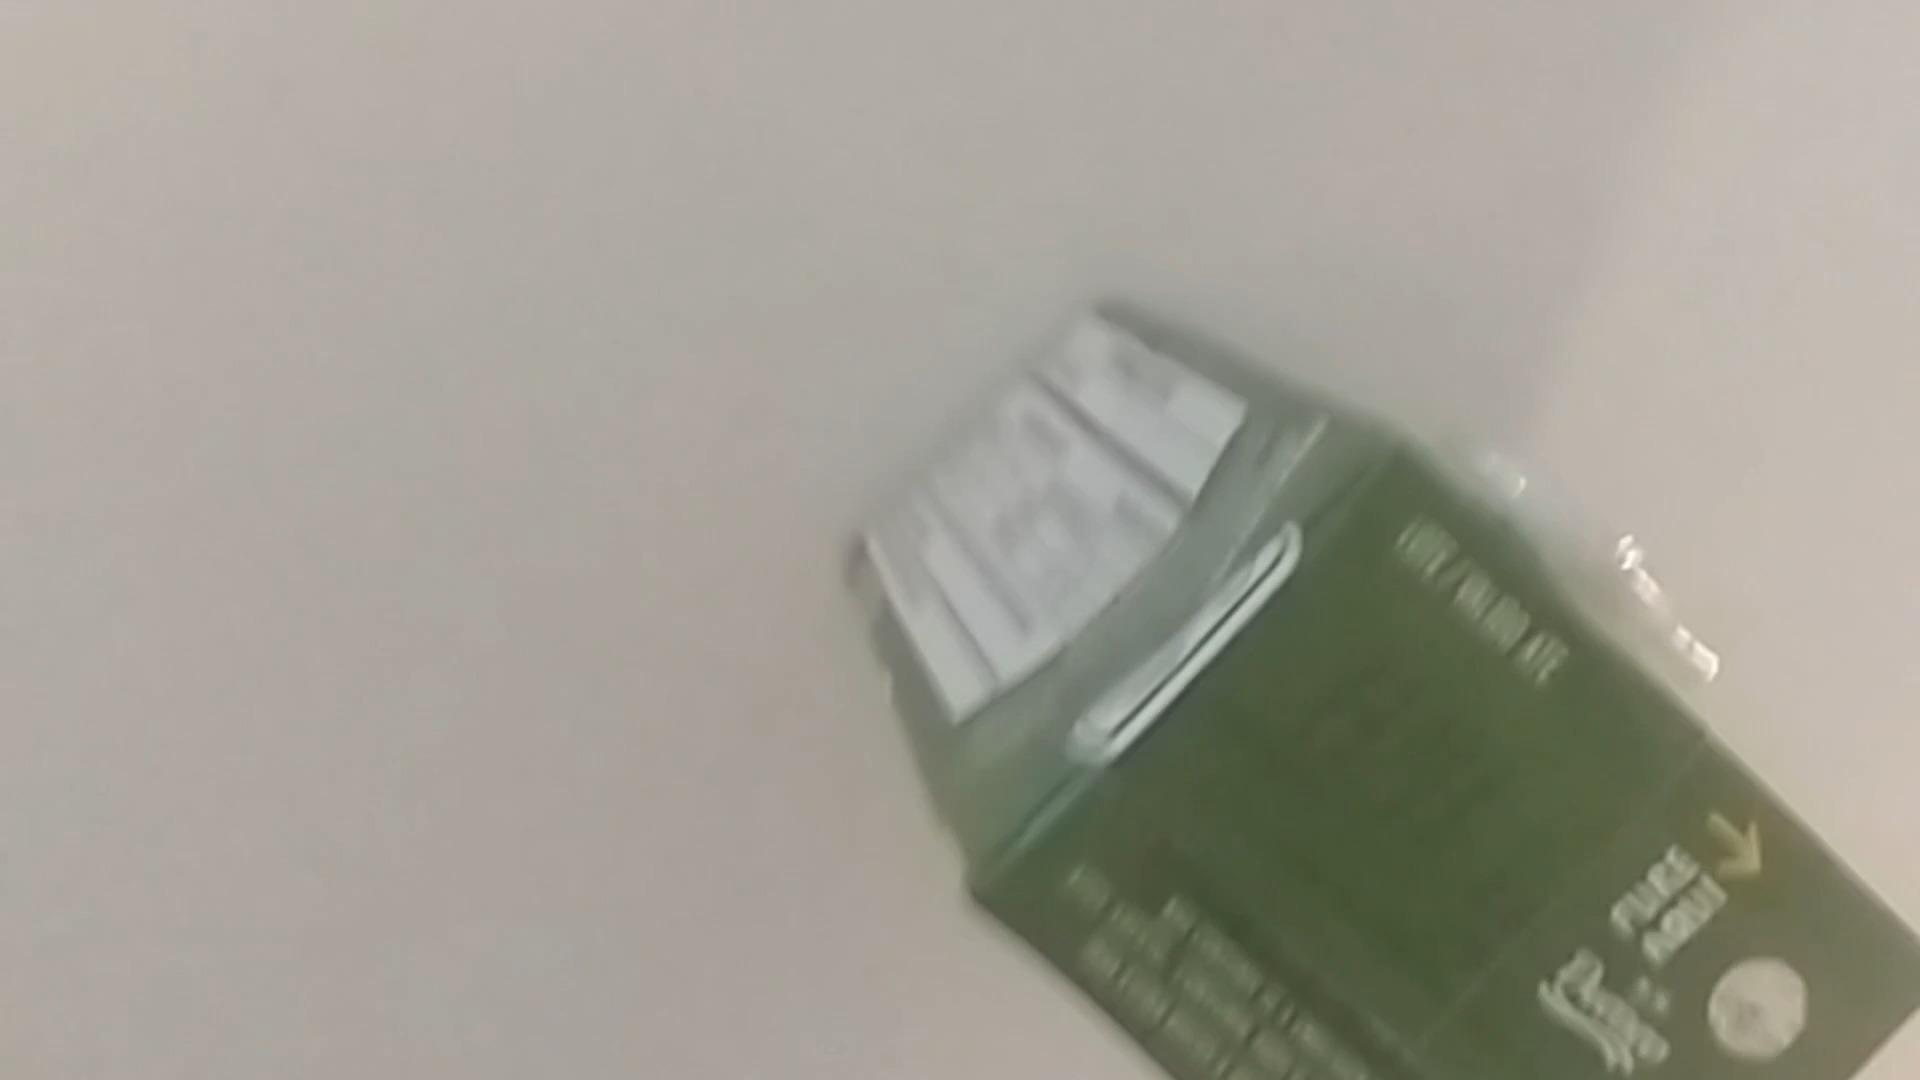coco: (832, 295, 1920, 1080)
